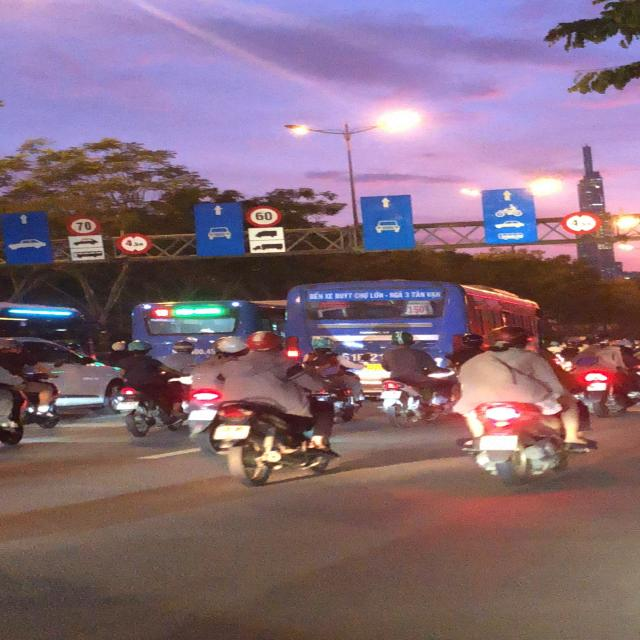Bien bao han che chieu cao: (562, 211, 605, 237), (113, 231, 157, 256)
Bien bao toc do toi da cho phep: (240, 203, 286, 230), (64, 212, 101, 238)
